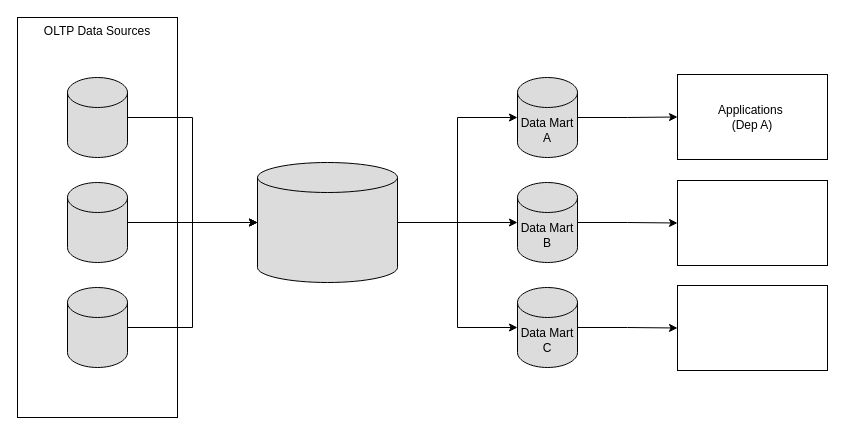
This 845x435 diagram has some shape labels left out. Each missing label, with the centre of its shape:
"Applications (Dep B)" belongs at [752,223].
"Applications (Dep C)" belongs at [752,327].
"Enterprise Data Warehouse (3NF Database)" belongs at [327,222].
